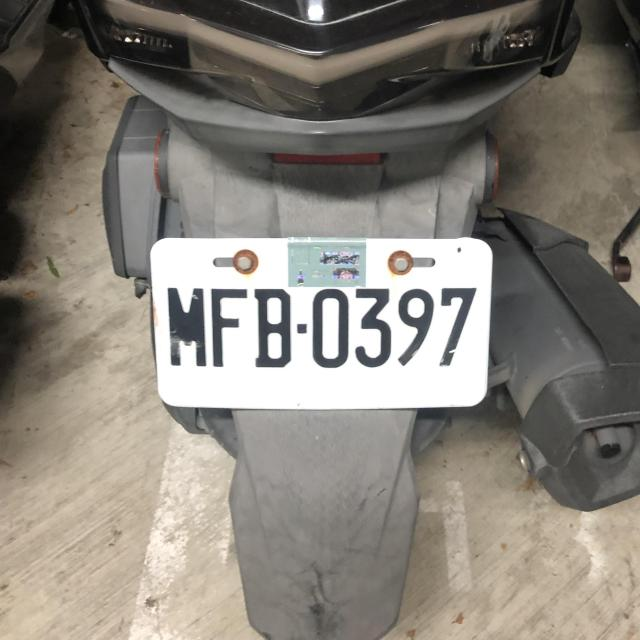W: (146, 232, 498, 409)
